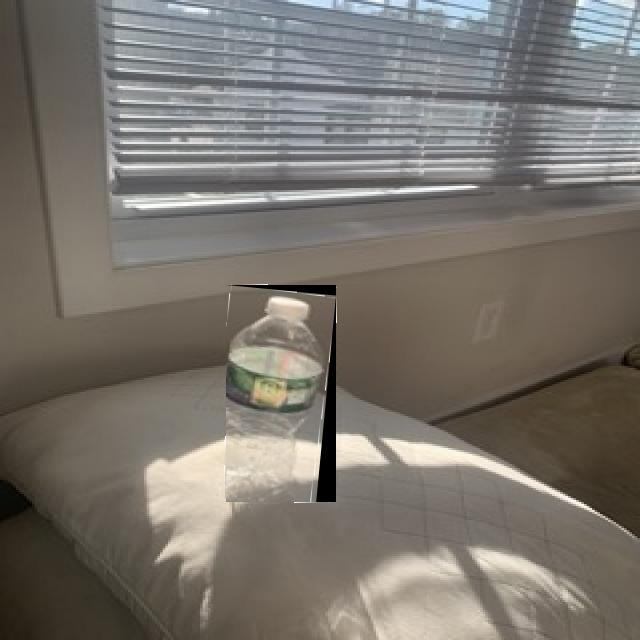water_bottle: (226, 285, 336, 502)
